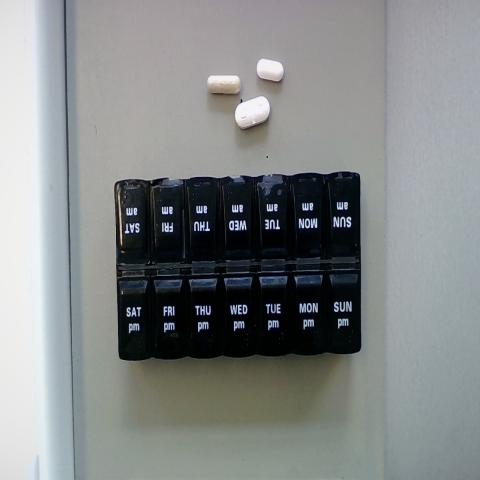FRI-am: (153, 180, 185, 266)
FRI-pm: (144, 273, 182, 361)
MON-am: (292, 180, 327, 261)
MON-pm: (288, 271, 321, 355)
Pill: (225, 95, 280, 133), (196, 64, 243, 101), (246, 44, 286, 87)
PillBox: (101, 156, 371, 381)
SAT-am: (116, 182, 148, 265)
SAT-pm: (115, 274, 144, 364)
SUN-am: (329, 173, 360, 258)
SUN-pm: (325, 270, 359, 353)
THU-am: (188, 177, 223, 258)
THU-pm: (177, 269, 217, 359)
TUE-am: (259, 176, 291, 260)
TUE-pm: (253, 270, 288, 357)
WED-am: (221, 177, 256, 263)
WED-pm: (216, 274, 250, 356)
